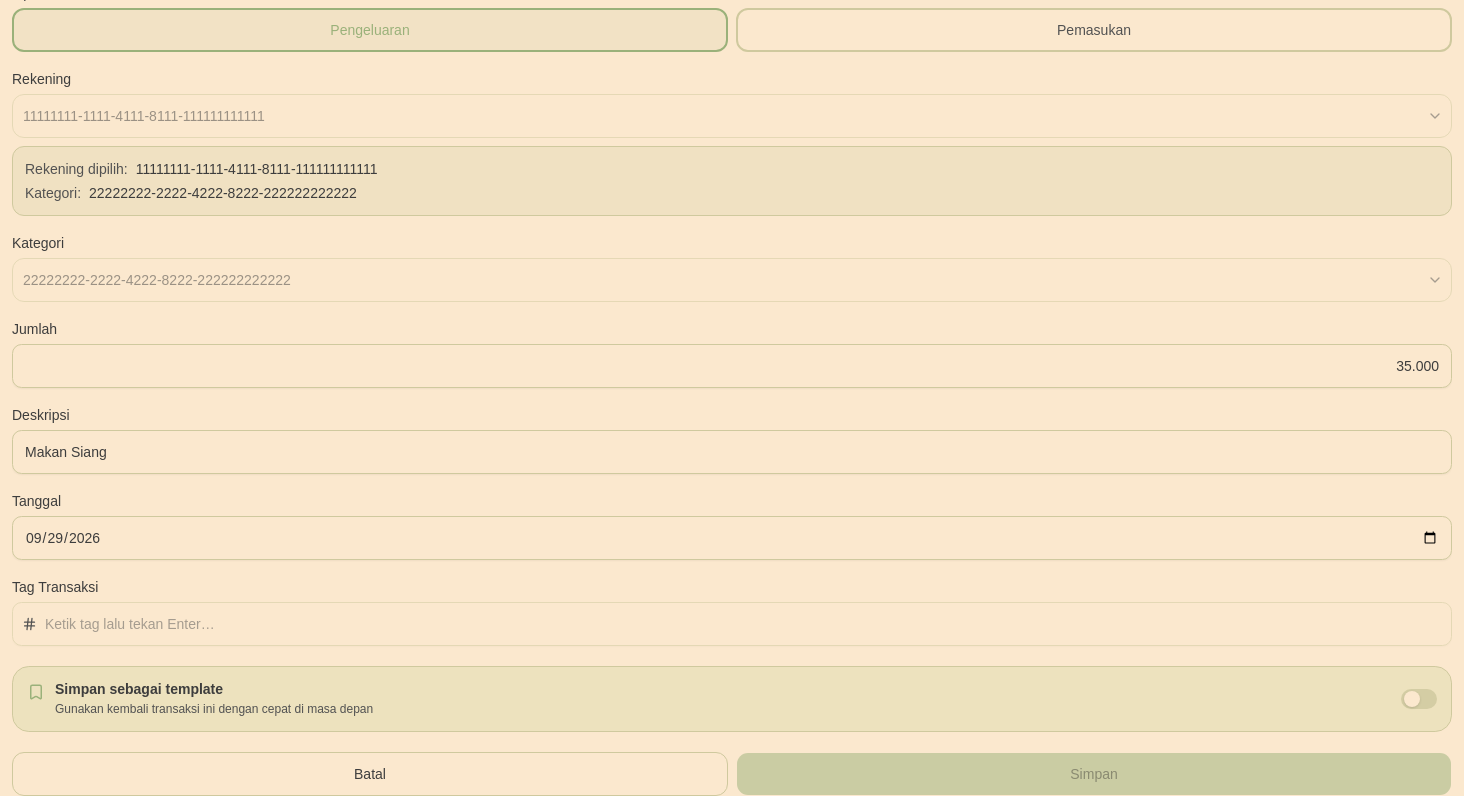
it: TransactionForm saveAsTemplate toggle › reveals template preview with category, name on top, and nominal below when switched on
Click the switch named "Simpan sebagai template" at point(1419, 699), box 1401,689 -> 1437,709
(page scrolled)
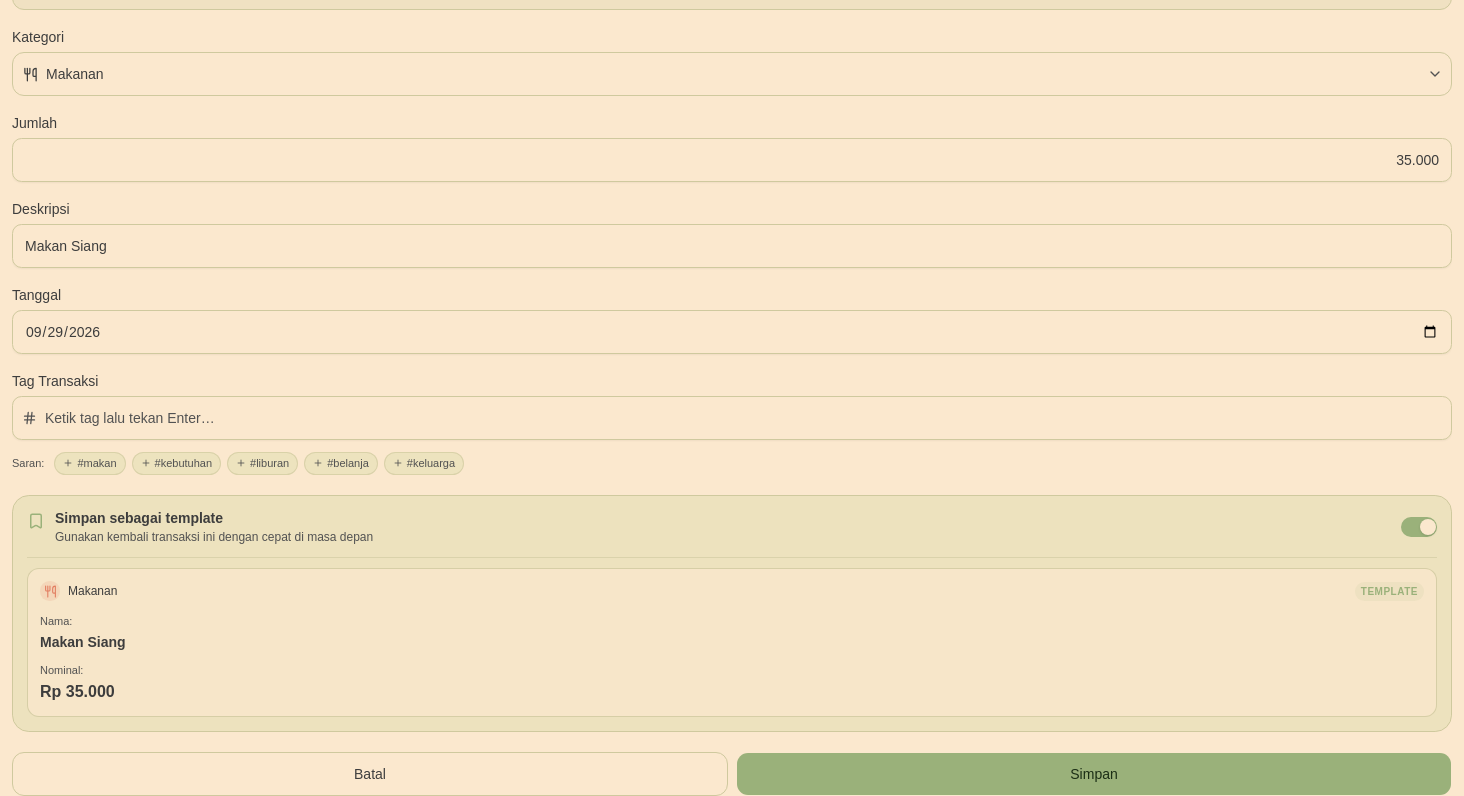
Check: the text "Template" is shown, box 1355,582 -> 1424,600
Check: the text "Nama:" is shown, box 40,615 -> 72,627
Check: the text "Makan Siang" is shown, box 40,634 -> 126,650
